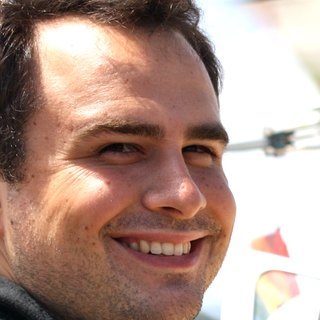eye: (90, 139, 144, 163), (179, 138, 220, 162)
